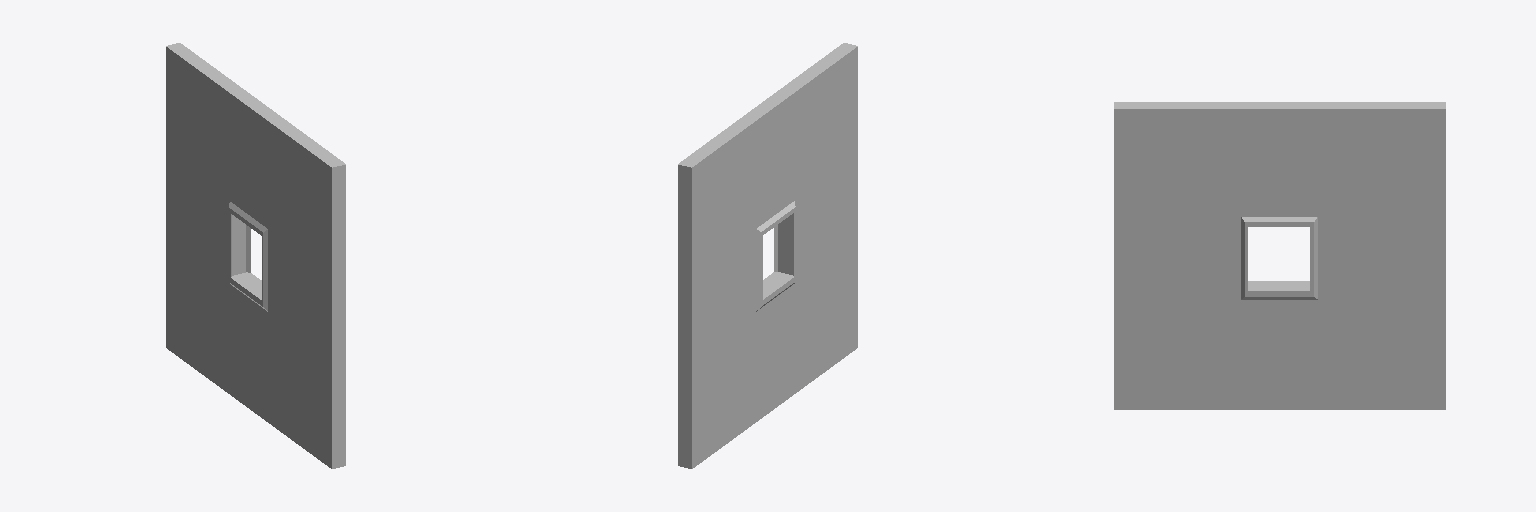
Rendered from mod_wall_4.obj.
3 renders of one model, left to right at view 1: azimuth 30°, elevation 25°; view 2: azimuth 150°, elevation 25°; view 3: azimuth 270°, elevation 25°, orthographic.
Visible parts, largest first — view 1: pCube1; view 2: pCube1; view 3: pCube1.
Part boxes in pixels (x1,y1,x2,y2): pCube1: (166,43,345,468); pCube1: (678,43,857,468); pCube1: (1114,102,1445,409).
Size of the model in its own units: 1.42 by 20 by 20.